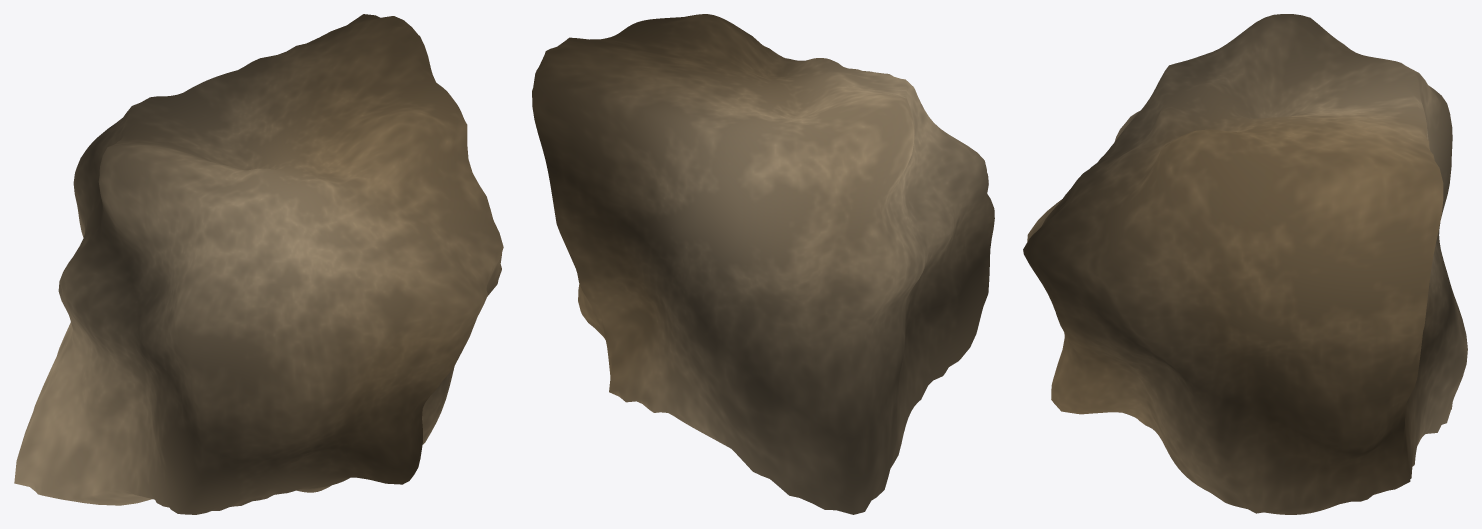
Rendered from asteroid-shard.glb.
The picture shows the model from 3 angles, left to right: view 1: azimuth 30°, elevation 25°; view 2: azimuth 150°, elevation 25°; view 3: azimuth 270°, elevation 25°; orthographic projection. The views are drawn at different scales.
Parts seen in each view (by area): view 1: asteroid_1004; view 2: asteroid_1004; view 3: asteroid_1004.
Part boxes in pixels (left/top/right/bottom): asteroid_1004: left=14, top=14, right=503, bottom=514; asteroid_1004: left=532, top=14, right=994, bottom=514; asteroid_1004: left=1023, top=14, right=1467, bottom=514.
Size of the model in its own units: 35.65 by 36.57 by 35.55.
Materials: 1 (1 with a texture image).
